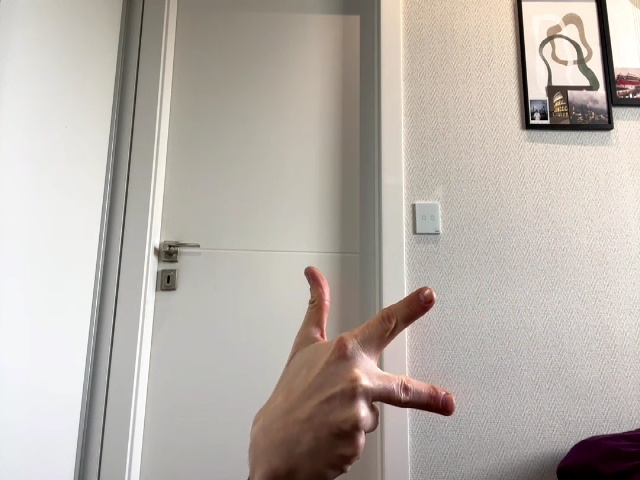K: (269, 266, 456, 476)
